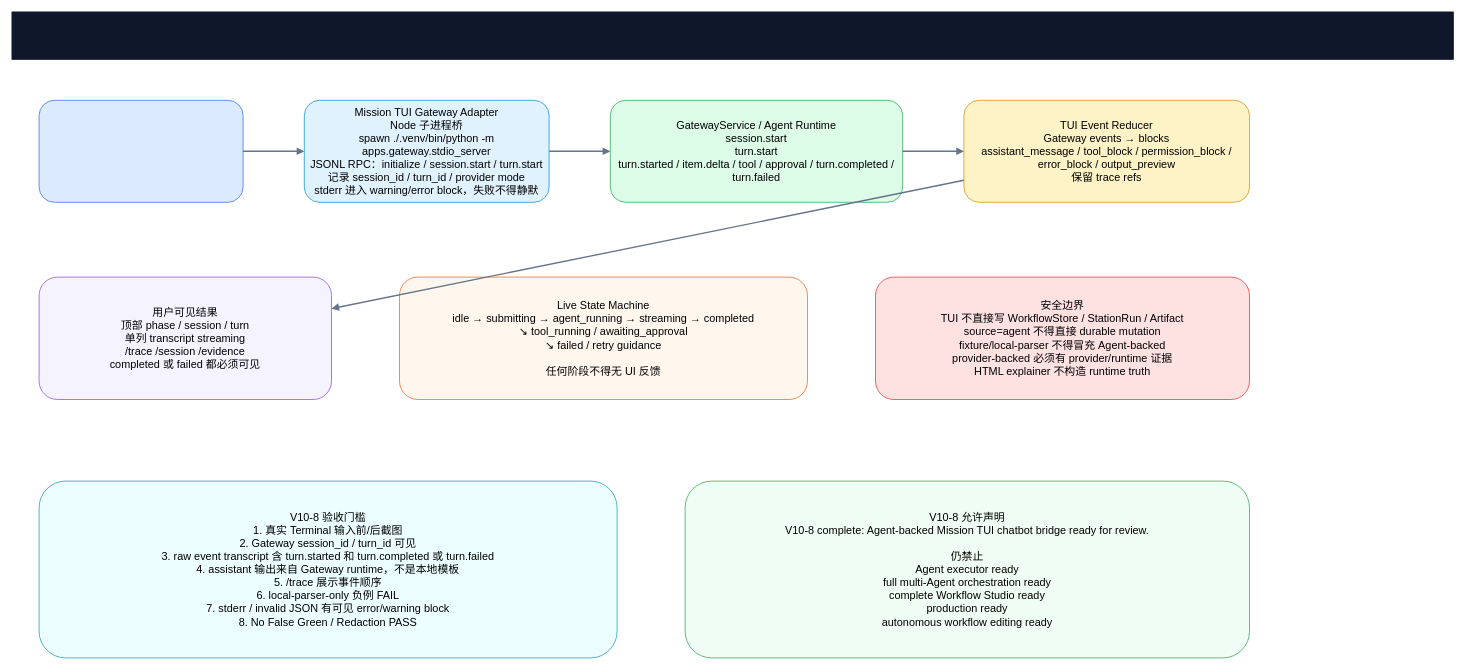
Some shapes in this 1465 by 670 pixel diagram are drawn without their labels. Here are the shapes that lost their labels. From the top down, the centre of each, then its label:
At point (732, 35): "V10-8：Agent-backed Chatbot TUI Bridge / 实时状态机 / 验收证据".
At point (140, 151): "用户输入 底部 composer 自然语言目标 / slash command 按 Enter 后必须立刻可见".
